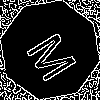M: (25, 25, 86, 85)
